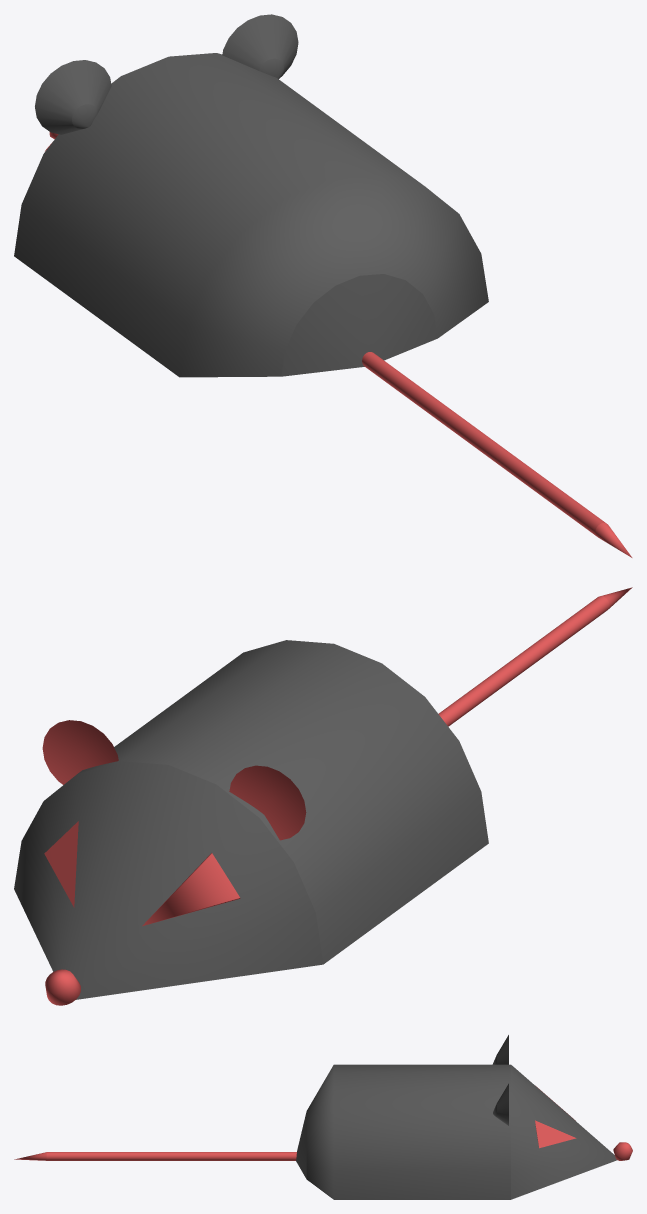
File: rat.fbx
3 renders of one model, top to bottom at view 1: azimuth 30°, elevation 25°; view 2: azimuth 150°, elevation 25°; view 3: azimuth 270°, elevation 25°, orthographic. The views are drawn at different scales.
Visible parts, largest first — view 1: pCylinder18; view 2: pCylinder18; view 3: pCylinder18.
Part boxes in pixels (box(x1,y1,x2,y2)): pCylinder18: box(14, 14, 632, 557); pCylinder18: box(14, 587, 632, 1005); pCylinder18: box(14, 1035, 632, 1199).
Bounding box in the file's own units: 2 × 1.14 × 6.47.
